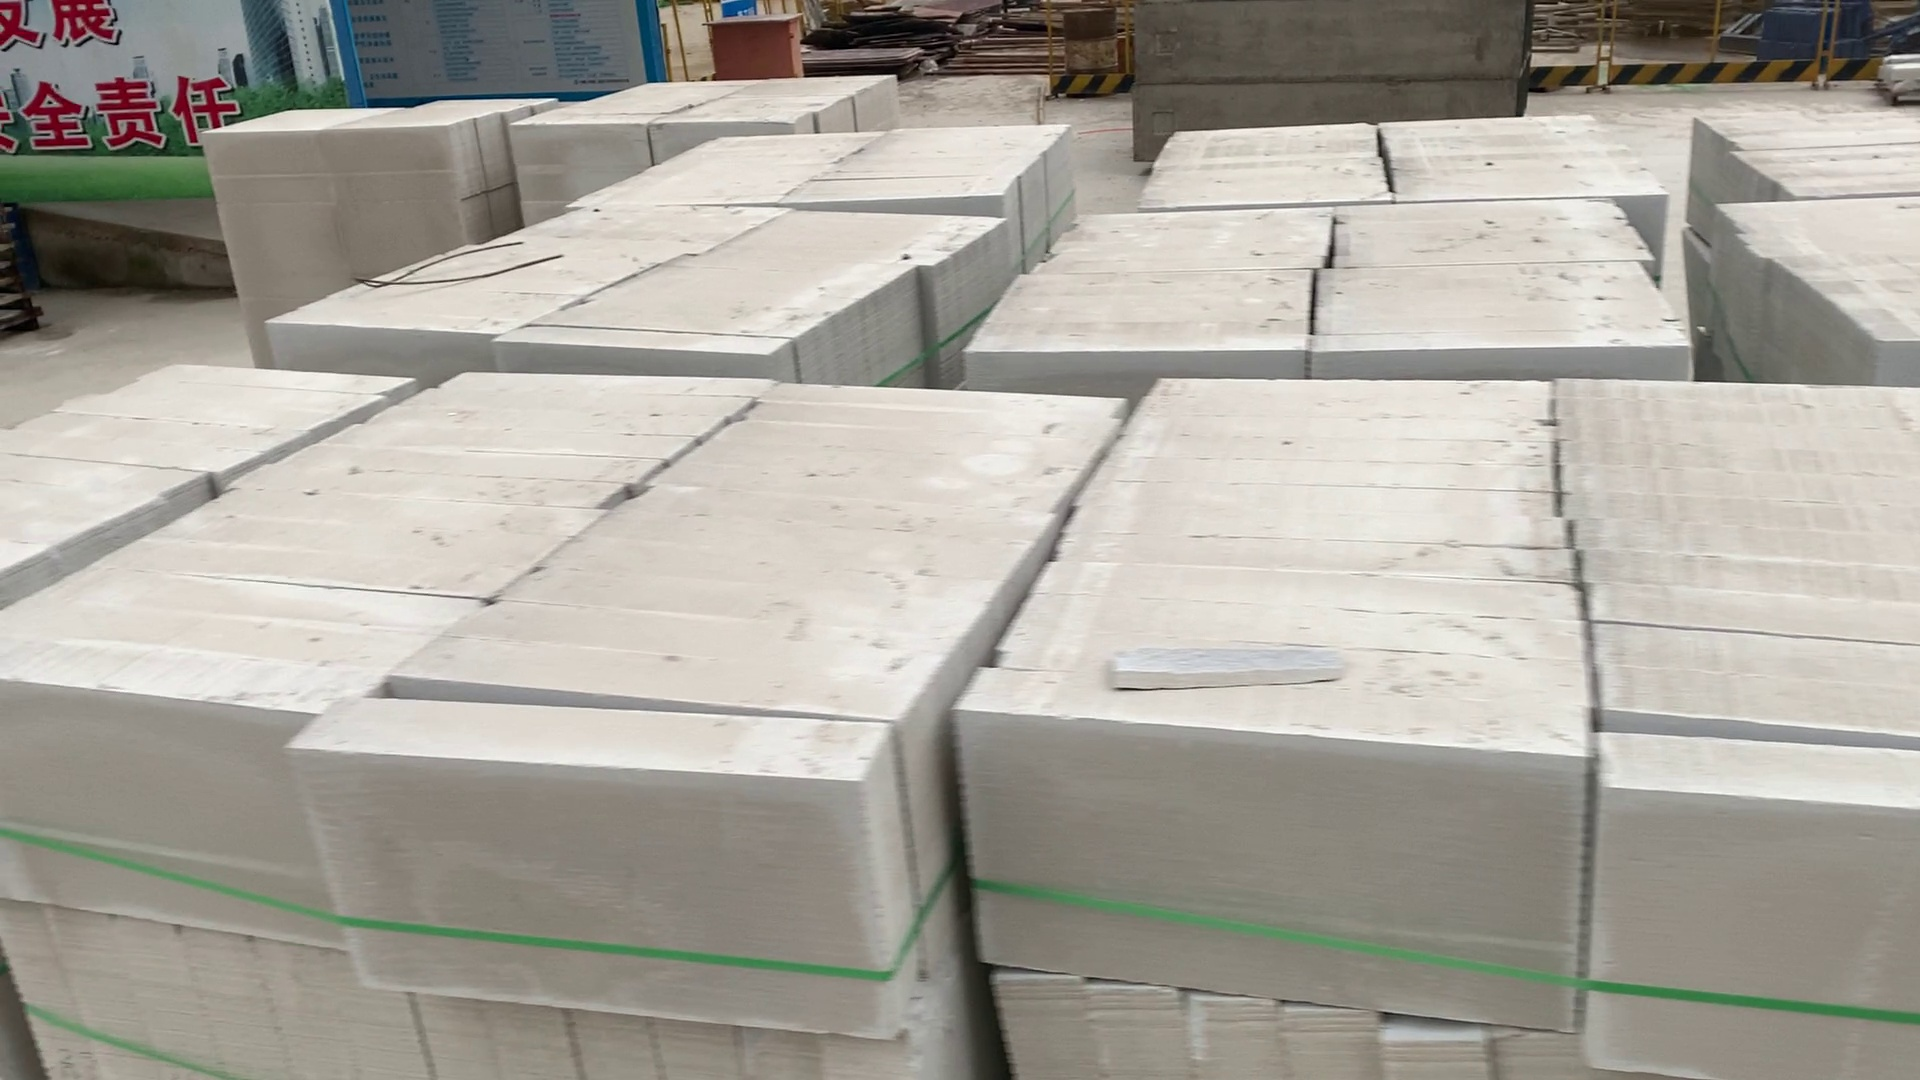brickwork: (38, 378, 952, 1080), (969, 365, 1920, 855), (996, 211, 1696, 375), (3, 345, 423, 587), (295, 206, 982, 349), (1129, 107, 1687, 204), (215, 91, 500, 257), (578, 137, 1064, 212), (1698, 210, 1920, 368), (522, 73, 876, 137), (1684, 105, 1917, 202)
